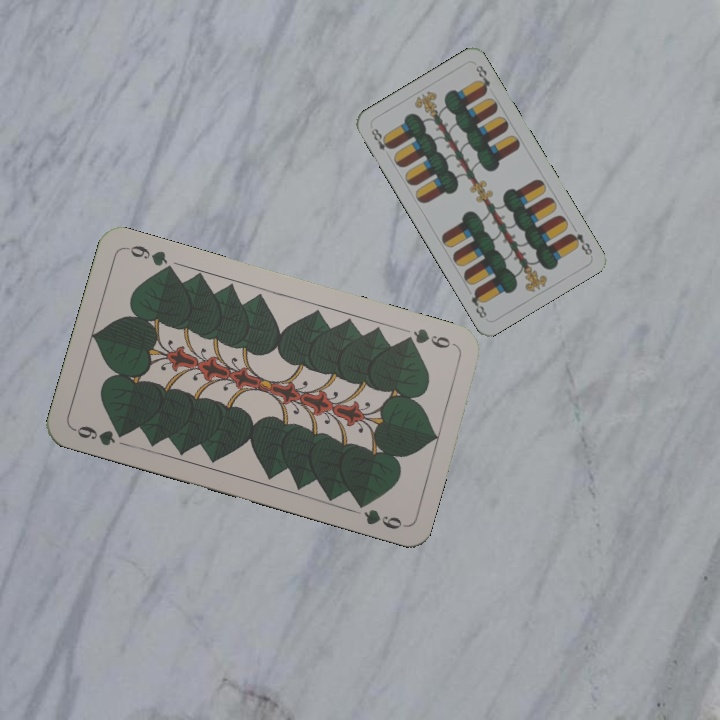E8: (565, 229, 595, 258), (367, 123, 395, 154)
G9: (69, 421, 130, 448), (398, 324, 458, 351)
